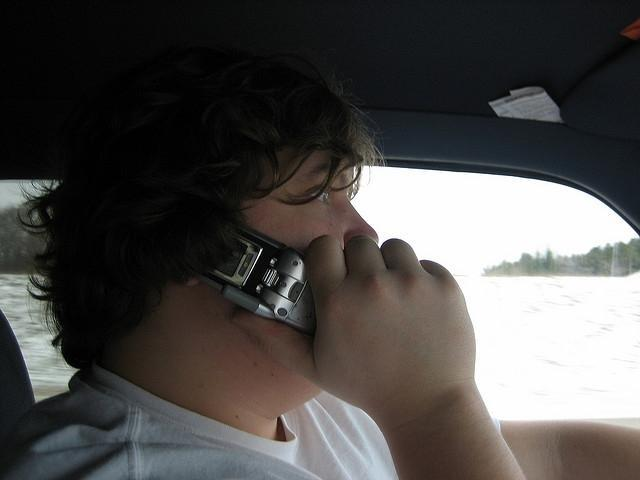car: (0, 1, 640, 474)
